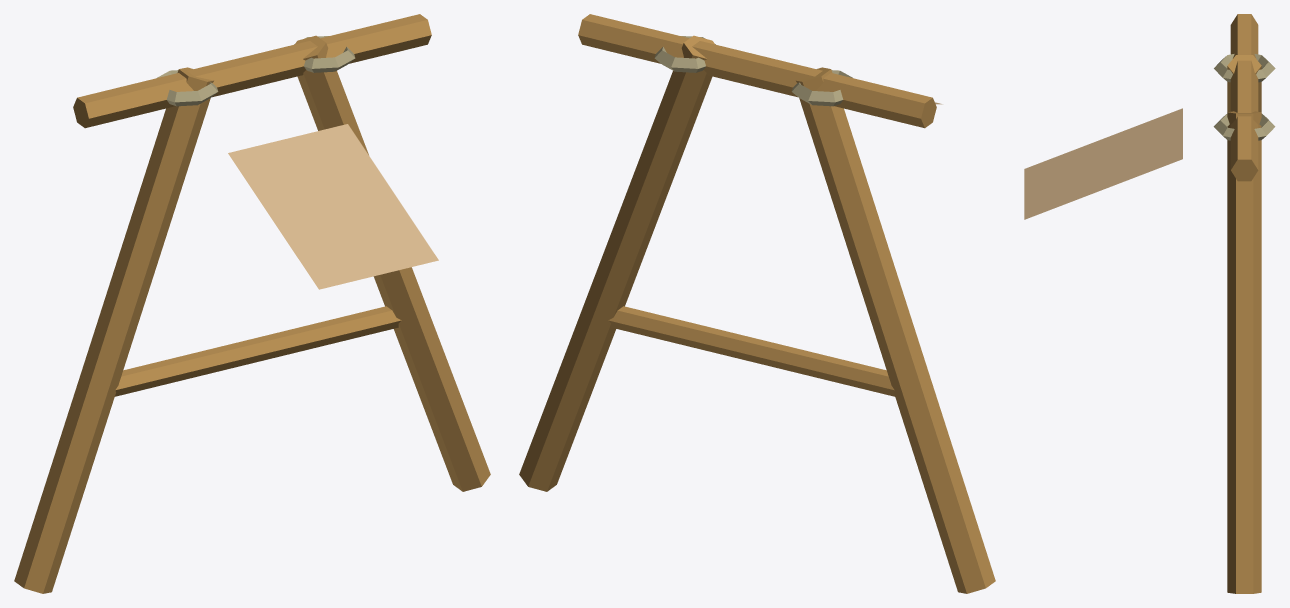
The model's file is tannery.dae.
The picture shows the model from 3 angles, left to right: view 1: azimuth 30°, elevation 25°; view 2: azimuth 150°, elevation 25°; view 3: azimuth 270°, elevation 25°; orthographic projection. The views are drawn at different scales.
Visible parts, largest first — view 1: Cylinder, Plane, Cylinder.001, Cylinder.002, Cylinder.003, Torus.007, Torus.008; view 2: Cylinder, Cylinder.001, Cylinder.002, Cylinder.003, Torus.007, Torus.008; view 3: Cylinder.001, Plane, Cylinder.002, Torus.007, Torus.008, Cylinder.
Part boxes in pixels (<box>): Cylinder: <box>14,67,213,593</box>; Plane: <box>228,124,438,289</box>; Cylinder.001: <box>295,35,490,491</box>; Cylinder.002: <box>73,14,431,128</box>; Cylinder.003: <box>115,306,401,396</box>; Torus.007: <box>157,70,218,106</box>; Torus.008: <box>294,36,355,72</box>; Cylinder: <box>796,67,995,593</box>; Cylinder.001: <box>519,35,714,491</box>; Cylinder.002: <box>578,14,936,128</box>; Cylinder.003: <box>608,306,894,396</box>; Torus.007: <box>791,70,852,106</box>; Torus.008: <box>654,36,715,72</box>; Cylinder.001: <box>1227,111,1261,593</box>; Plane: <box>1024,108,1182,219</box>; Cylinder.002: <box>1230,14,1258,181</box>; Torus.007: <box>1214,54,1275,82</box>; Torus.008: <box>1213,113,1275,140</box>; Cylinder: <box>1227,55,1261,112</box>.
Bounding box in the file's own units: 136 × 72.92 × 134.
